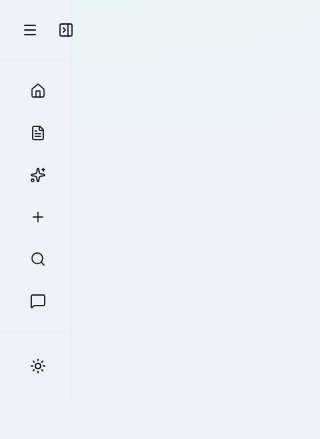
Test: Sidebar + Sheet contract › falls back safely when matchMedia is unavailable and supports manual collapse toggle
The width and height of the screenshot is (320, 439).
Click the button named "Expand sidebar": (66, 30) [48, 12, 84, 48]
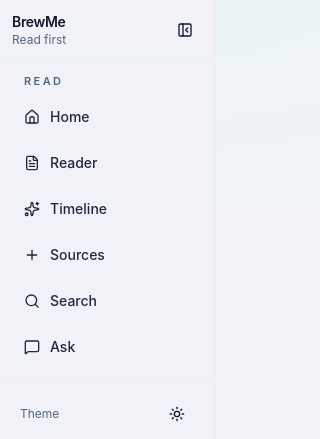
Now the button named "Collapse sidebar" is shown, box [167, 12, 203, 48]
